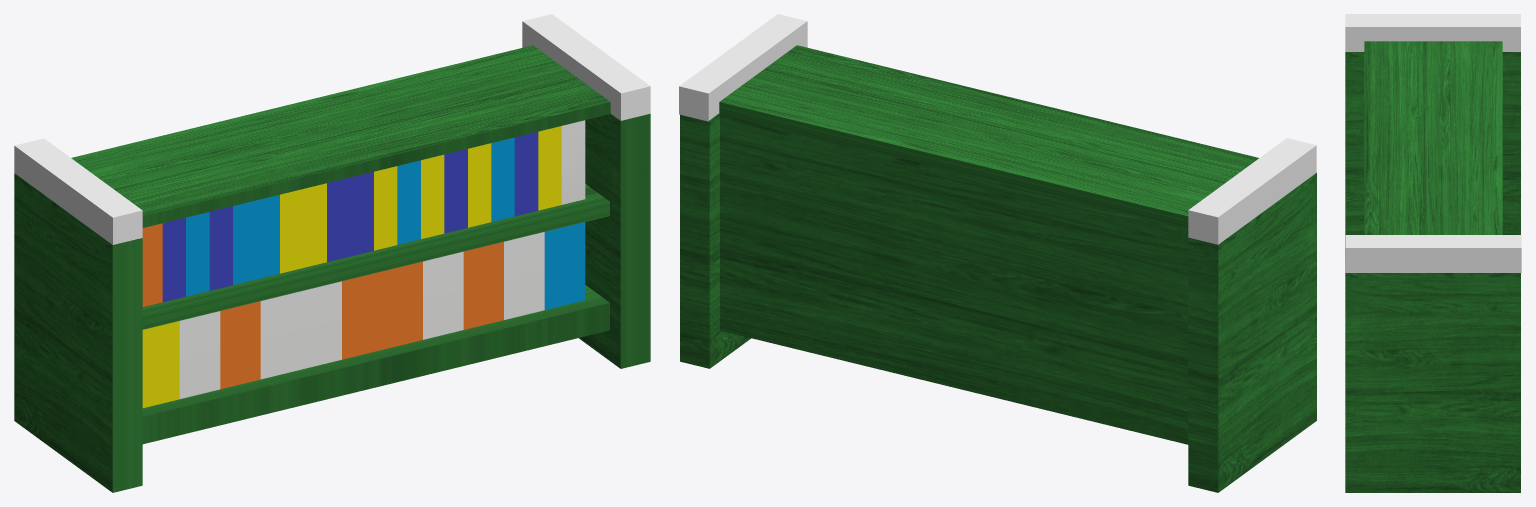
The model's file is Libreria2.obj.
3 renders of one model, left to right at view 1: azimuth 30°, elevation 25°; view 2: azimuth 150°, elevation 25°; view 3: azimuth 270°, elevation 25°, orthographic. The views are drawn at different scales.
Parts seen in each view (by area): view 1: Libreria:polySurface13polySurface11grouppolySurface15polySurface, Libreria:polySurface14polySurface13polySurface11group, Libreria:polySurface13polySurface11grouppolySurface16polySurface, Libreria:pasted__pCube1group3, Libreria:pasted__pasted__pCube1pasted__group3group4, Libreria:pCube1, Libreria:pasted__pCube1group1; view 2: Libreria:polySurface13polySurface11grouppolySurface15polySurface, Libreria:pasted__pCube1group3, Libreria:pasted__pasted__pCube1pasted__group3group4, Libreria:pCube1, Libreria:pasted__pCube1group1; view 3: Libreria:pasted__pasted__pCube1pasted__group3group4, Libreria:polySurface13polySurface11grouppolySurface15polySurface, Libreria:pasted__pCube1group3, Libreria:pasted__pCube1group1, Libreria:pCube1.
Part boxes in pixels (box(x1,y1,x2,y2)): Libreria:polySurface13polySurface11grouppolySurface15polySurface: box(71, 45, 610, 444); Libreria:polySurface14polySurface13polySurface11group: box(142, 120, 585, 306); Libreria:polySurface13polySurface11grouppolySurface16polySurface: box(142, 222, 585, 407); Libreria:pasted__pCube1group3: box(14, 173, 142, 492); Libreria:pasted__pasted__pCube1pasted__group3group4: box(579, 113, 650, 368); Libreria:pCube1: box(14, 138, 142, 244); Libreria:pasted__pCube1group1: box(522, 14, 650, 120); Libreria:polySurface13polySurface11grouppolySurface15polySurface: box(719, 45, 1258, 444); Libreria:pasted__pCube1group3: box(1188, 173, 1316, 492); Libreria:pasted__pasted__pCube1pasted__group3group4: box(680, 113, 750, 368); Libreria:pCube1: box(1188, 138, 1316, 244); Libreria:pasted__pCube1group1: box(679, 14, 807, 121); Libreria:pasted__pasted__pCube1pasted__group3group4: box(1345, 259, 1520, 492); Libreria:polySurface13polySurface11grouppolySurface15polySurface: box(1364, 41, 1502, 234); Libreria:pasted__pCube1group3: box(1345, 52, 1520, 258); Libreria:pasted__pCube1group1: box(1345, 235, 1521, 272); Libreria:pCube1: box(1345, 14, 1520, 51).
Bounding box in the file's own units: 3 × 1.47 × 0.9563.
